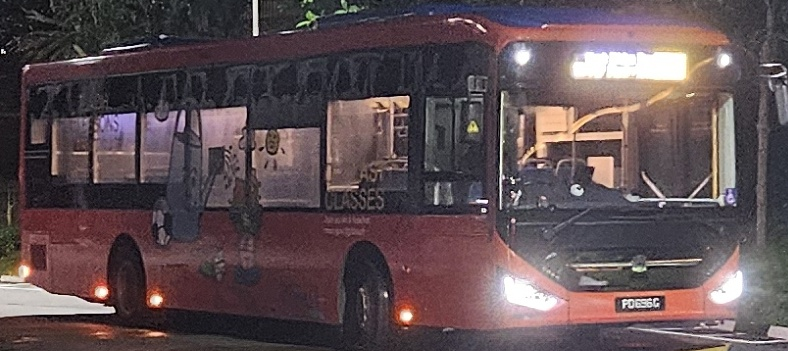bus: (657, 56, 688, 81)
